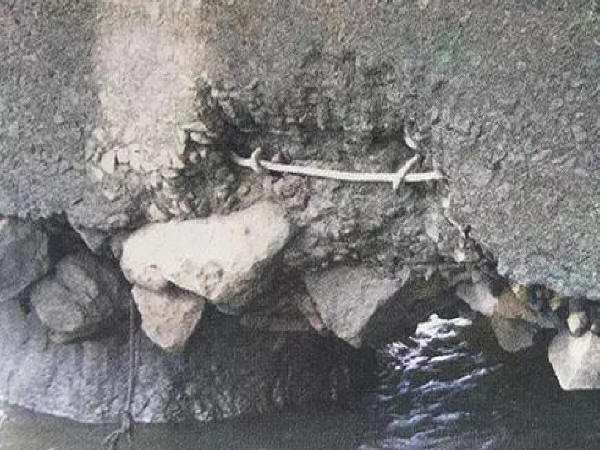Exposed reinforcement: (228, 149, 449, 183), (391, 154, 423, 204), (249, 145, 285, 177)
Spalling: (105, 47, 501, 274)
